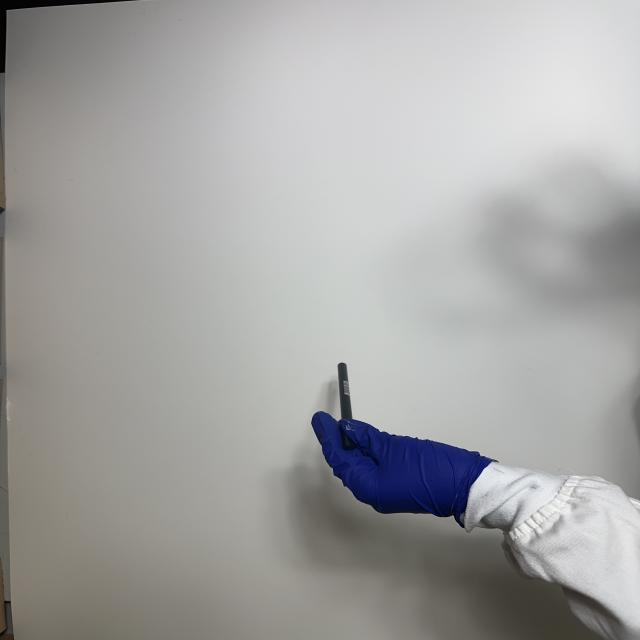gloves_contaminated: (311, 412, 494, 526)
